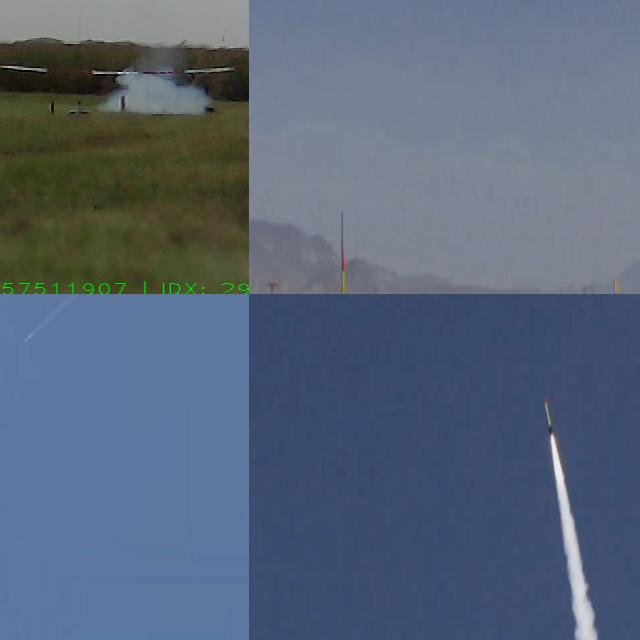Rocket: (339, 253, 347, 294), (545, 400, 554, 436), (613, 276, 617, 294), (24, 332, 31, 342)
